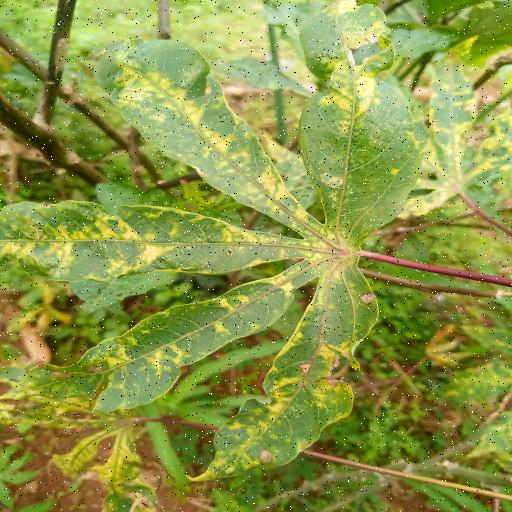Cassava_Mosaic: (0, 4, 435, 479)
